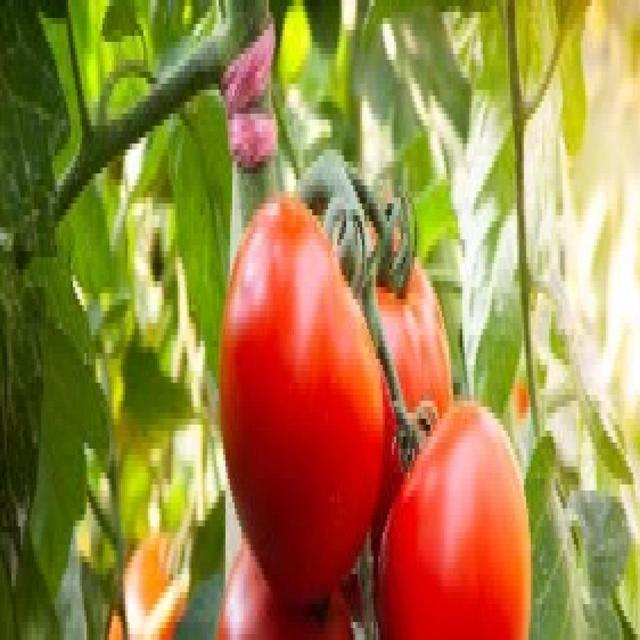Healthy Fruit: (98, 66, 301, 394)
